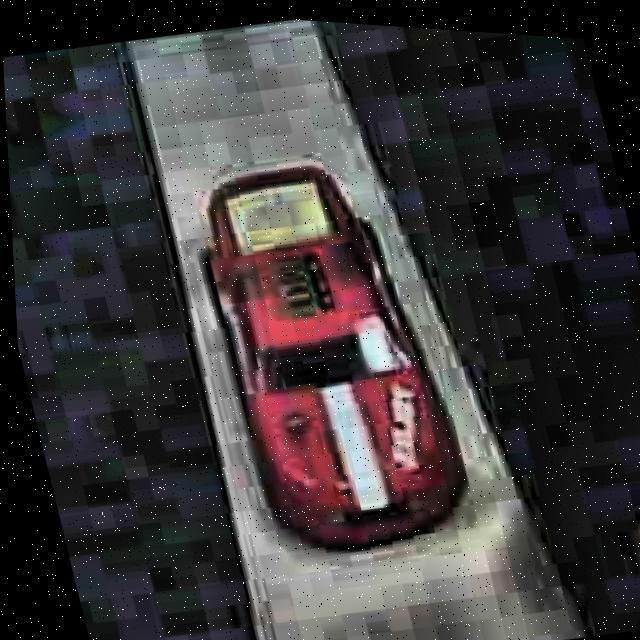car: (174, 133, 488, 584)
